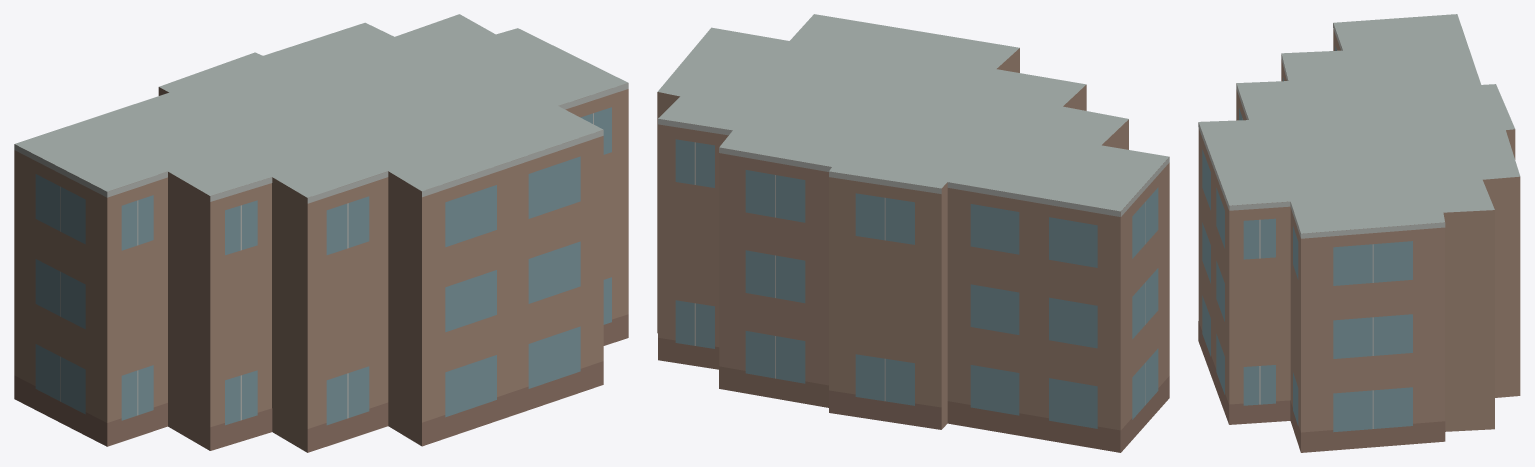
Rendered from survey-upis-32862295.glb.
3 renders of one model, left to right at view 1: azimuth 30°, elevation 25°; view 2: azimuth 150°, elevation 25°; view 3: azimuth 270°, elevation 25°, orthographic. The views are drawn at different scales.
Parts seen in each view (by area): view 1: survey-upis-32862295.tmp; view 2: survey-upis-32862295.tmp; view 3: survey-upis-32862295.tmp.
Part boxes in pixels (x1,y1,x2,y2): survey-upis-32862295.tmp: (14, 14, 628, 452); survey-upis-32862295.tmp: (657, 14, 1169, 452); survey-upis-32862295.tmp: (1198, 14, 1520, 452).
Bounding box in the file's own units: 22.35 × 10.4 × 13.85.
